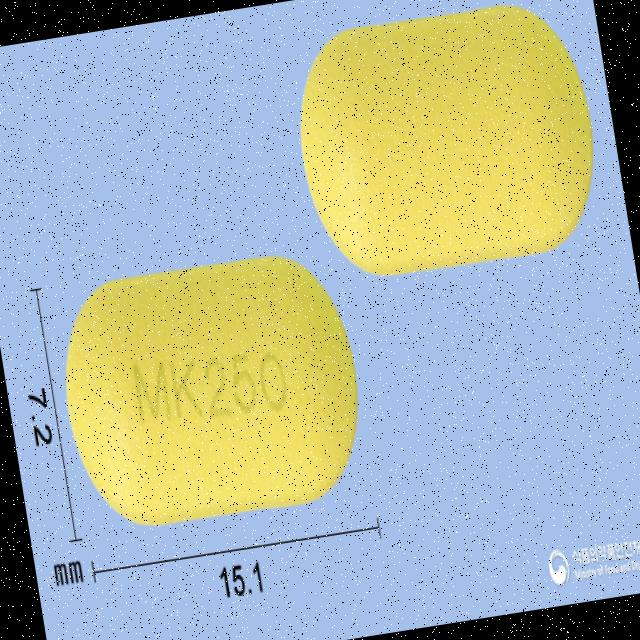Craycin - 500mg: (48, 243, 375, 539)
